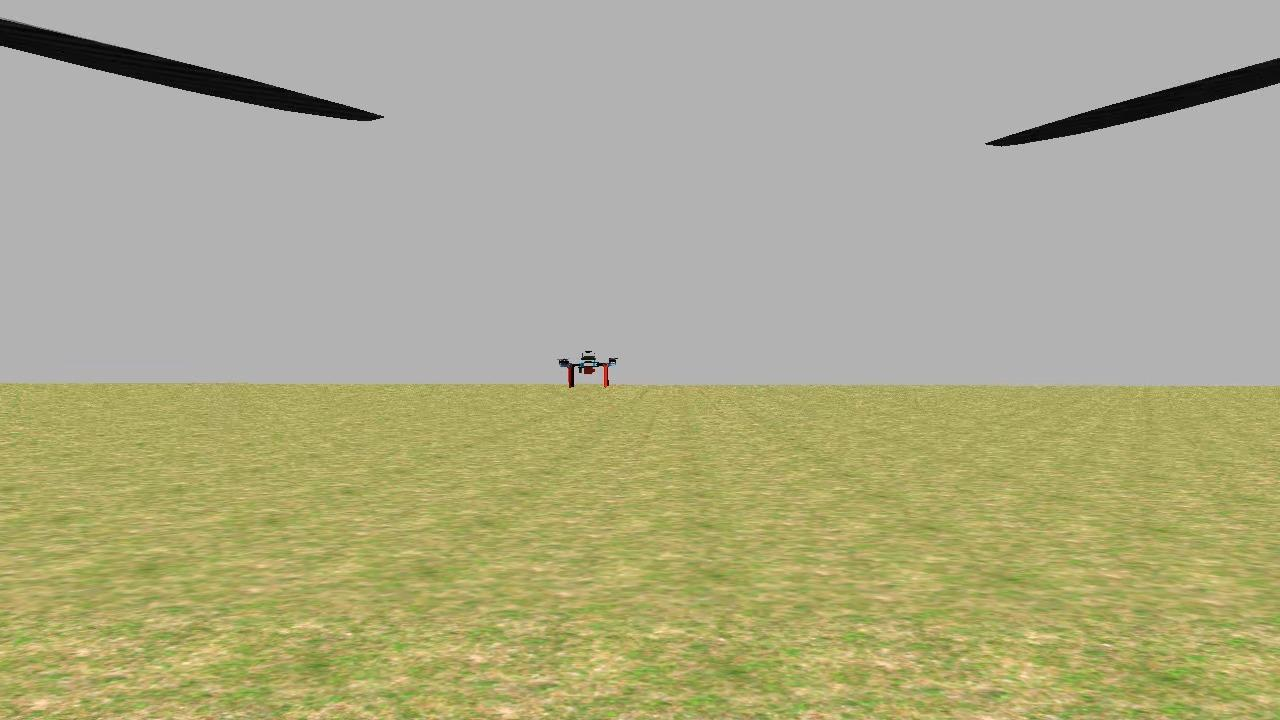UAV: (549, 344, 626, 392)
